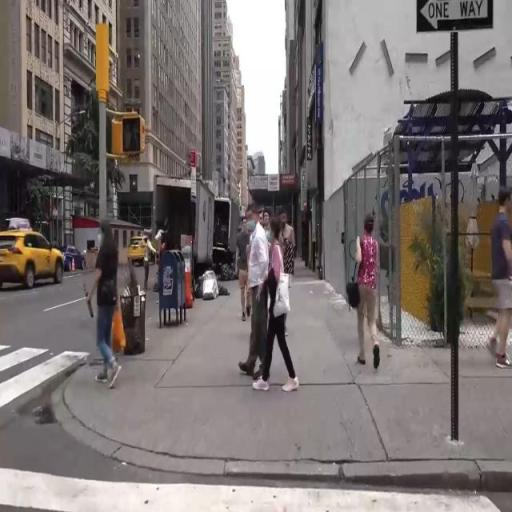person: (267, 213, 304, 400), (350, 213, 386, 389), (486, 183, 512, 385), (94, 218, 119, 395), (244, 209, 265, 386), (238, 215, 254, 316), (280, 209, 302, 282), (143, 232, 156, 293), (257, 205, 270, 234)
